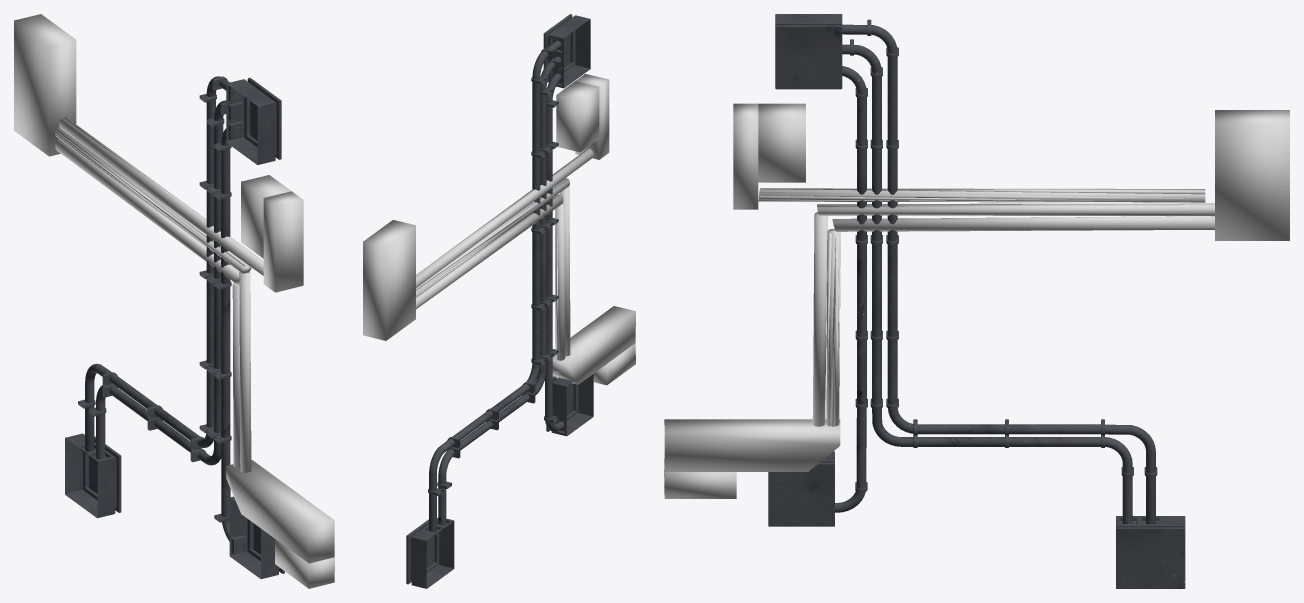
File: SM_CablesAssemblyWall_02.fbx
The picture shows the model from 3 angles, left to right: view 1: azimuth 30°, elevation 25°; view 2: azimuth 150°, elevation 25°; view 3: azimuth 270°, elevation 25°; orthographic projection. The views are drawn at different scales.
Parts seen in each view (by area): view 1: SM_CablesAssemblyWall_02_ConvexHulls, SM_CablesAssemblyWall_02; view 2: SM_CablesAssemblyWall_02_ConvexHulls, SM_CablesAssemblyWall_02; view 3: SM_CablesAssemblyWall_02_ConvexHulls, SM_CablesAssemblyWall_02.
Part boxes in pixels (left/top/right/bottom): SM_CablesAssemblyWall_02_ConvexHulls: left=14, top=14, right=334, bottom=588; SM_CablesAssemblyWall_02: left=65, top=76, right=284, bottom=578; SM_CablesAssemblyWall_02_ConvexHulls: left=363, top=74, right=635, bottom=385; SM_CablesAssemblyWall_02: left=406, top=14, right=593, bottom=588; SM_CablesAssemblyWall_02_ConvexHulls: left=664, top=103, right=1289, bottom=498; SM_CablesAssemblyWall_02: left=768, top=14, right=1185, bottom=588.
Bounding box in the file's own units: 0.084 × 1.51 × 1.52.
